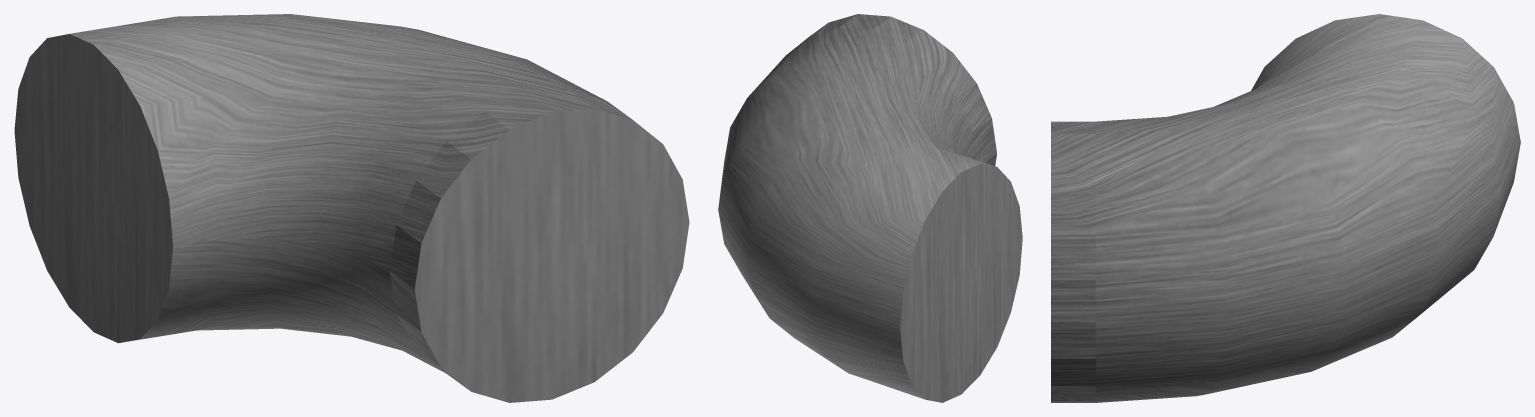
The model's file is pipe-turn.fbx.
The picture shows the model from 3 angles, left to right: view 1: azimuth 30°, elevation 25°; view 2: azimuth 150°, elevation 25°; view 3: azimuth 270°, elevation 25°; orthographic projection. The views are drawn at different scales.
Parts seen in each view (by area): view 1: pTorus4; view 2: pTorus4; view 3: pTorus4.
Boxes of the visible parts, box(x1,y1,x2,y2) form: pTorus4: box(14, 14, 689, 402); pTorus4: box(718, 14, 1022, 402); pTorus4: box(1051, 14, 1520, 402).
Size of the model in its own units: 139 by 92.96 by 154.
